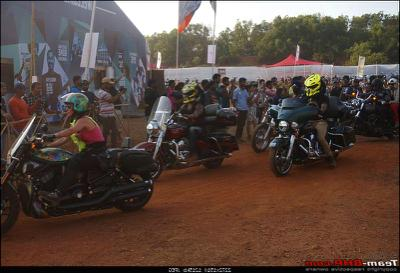With Helmet: (62, 90, 90, 116), (182, 79, 200, 105), (304, 73, 323, 97)
